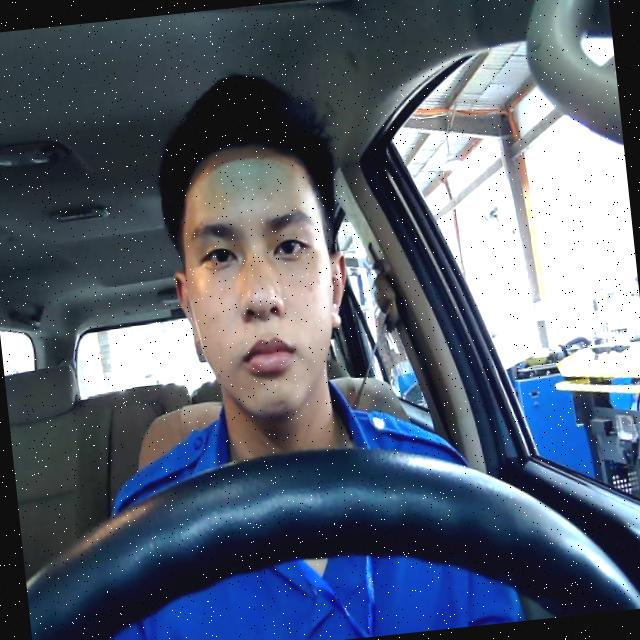focused: (158, 134, 360, 426)
